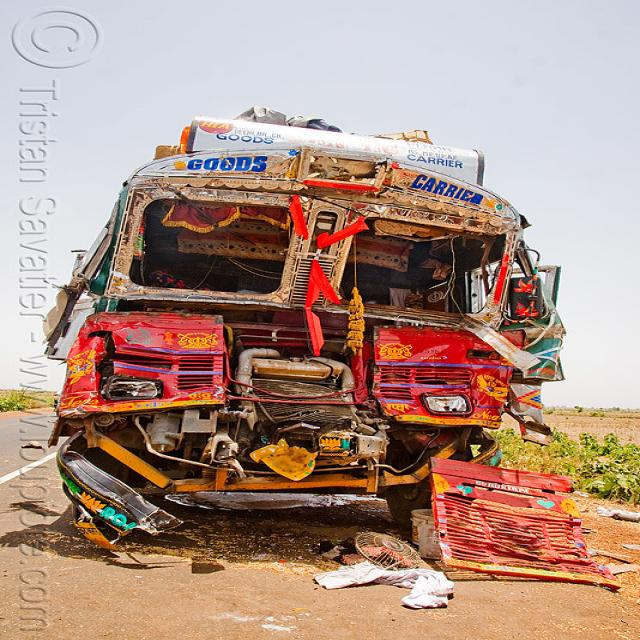accident: (45, 119, 616, 587)
